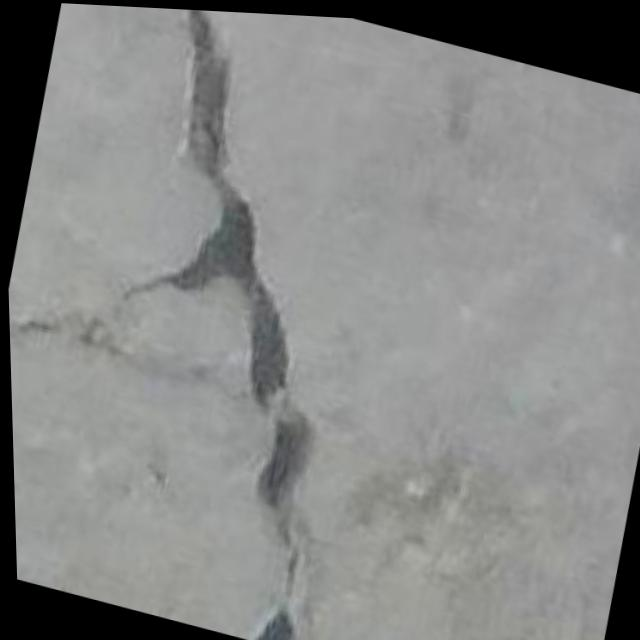Crack: (24, 1, 423, 640)
